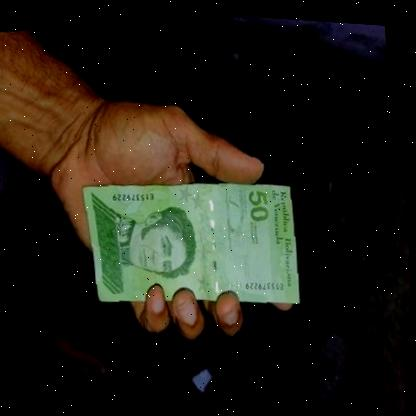vef_front: (80, 162, 304, 322)
